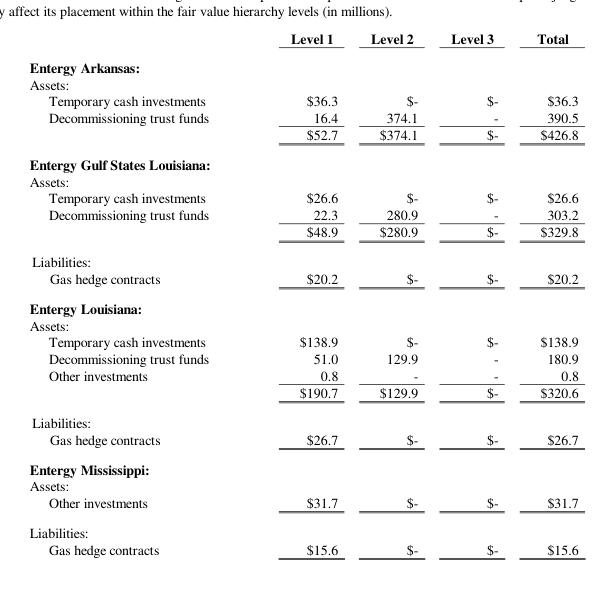table: (28, 28, 578, 557)
table column: (28, 28, 249, 557), (249, 28, 353, 557), (433, 28, 517, 557), (353, 28, 433, 557), (517, 28, 578, 557)
table column header: (28, 28, 578, 52)
table projected row header: (28, 148, 578, 172), (28, 292, 578, 316), (28, 453, 578, 477), (28, 52, 578, 75), (28, 246, 578, 269), (28, 406, 578, 429), (28, 516, 578, 539), (28, 75, 578, 91), (28, 172, 578, 188), (28, 316, 578, 332), (28, 477, 578, 493)
table row: (28, 28, 578, 52), (28, 148, 578, 172), (28, 222, 578, 246), (28, 292, 578, 316), (28, 429, 578, 453), (28, 453, 578, 477), (28, 52, 578, 75), (28, 125, 578, 148), (28, 246, 578, 269), (28, 269, 578, 292), (28, 383, 578, 406), (28, 406, 578, 429), (28, 493, 578, 516), (28, 516, 578, 539), (28, 539, 578, 557), (28, 91, 578, 108), (28, 108, 578, 125), (28, 188, 578, 205), (28, 205, 578, 222), (28, 332, 578, 349), (28, 349, 578, 366), (28, 366, 578, 383), (28, 75, 578, 91), (28, 172, 578, 188), (28, 316, 578, 332), (28, 477, 578, 493)
